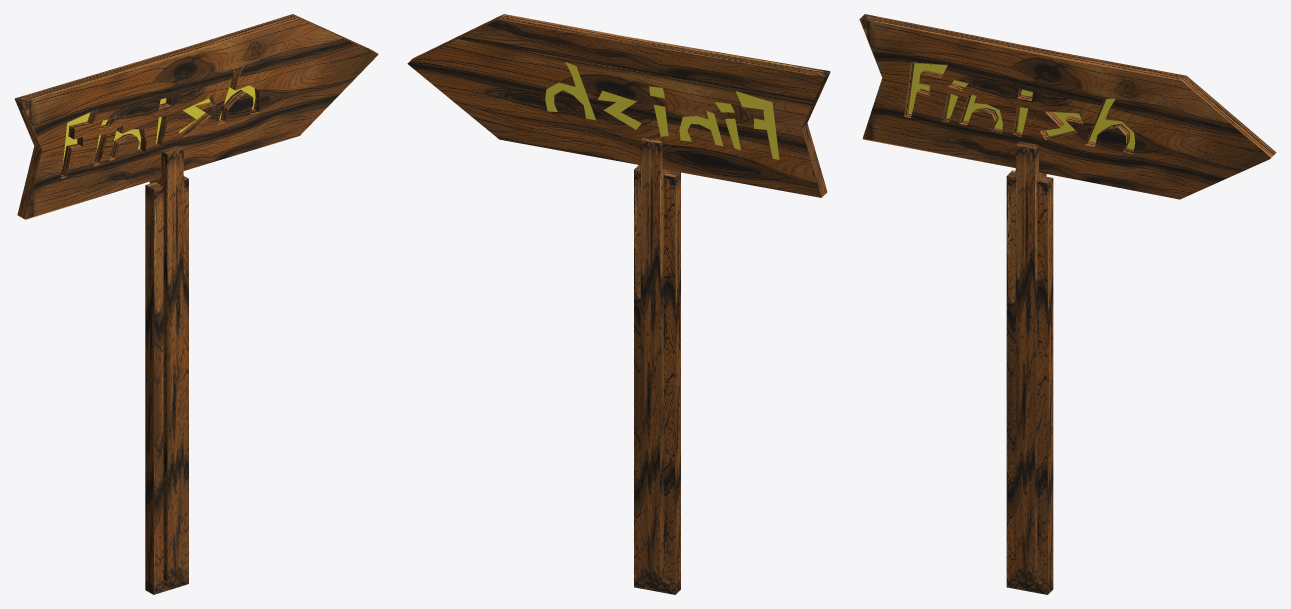
File: Finsihsign3.fbx
3 views of the same model, side by side, from view 1: azimuth 30°, elevation 25°; view 2: azimuth 150°, elevation 25°; view 3: azimuth 330°, elevation 25° (orthographic). The views are drawn at different scales.
Visible parts, largest first — view 1: Cap 1, Cube, Cube.1, Extrude NURBS, Cube.2; view 2: Cap 2, Cube, Cube.1, Cube.2, Extrude NURBS; view 3: Cap 1, Cube, Cube.1, Extrude NURBS, Cube.2.
Part boxes in pixels (<box>): Cap 1: <box>23,19,378,218</box>; Cube: <box>145,176,188,594</box>; Cube.1: <box>149,146,183,581</box>; Extrude NURBS: <box>14,14,378,219</box>; Cube.2: <box>41,66,258,168</box>; Cap 2: <box>407,19,824,197</box>; Cube: <box>634,165,680,594</box>; Cube.1: <box>640,138,668,583</box>; Cube.2: <box>545,62,779,159</box>; Extrude NURBS: <box>408,14,830,197</box>; Cap 1: <box>860,18,1270,199</box>; Cube: <box>1006,170,1053,594</box>; Cube.1: <box>1015,141,1046,582</box>; Extrude NURBS: <box>859,14,1276,173</box>; Cube.2: <box>904,63,1135,154</box>.
Size of the model in its own units: 25.1 by 33.37 by 3.57.
Materials: 6 (6 with a texture image).
